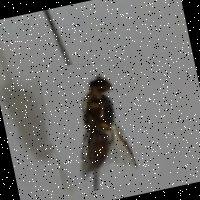Oriental-fruit-fly: (37, 51, 159, 197)
